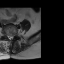CCS_normal: (9, 34, 11, 41)
LFS_stenosis: (13, 33, 15, 37)
LLS_normal: (12, 34, 13, 40)
RFS_stenosis: (5, 32, 7, 37)
RLS_normal: (7, 34, 9, 40)
